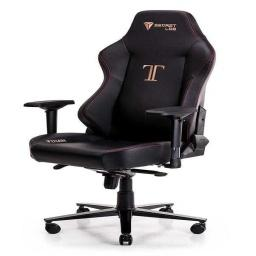Chair: (25, 10, 216, 246)
